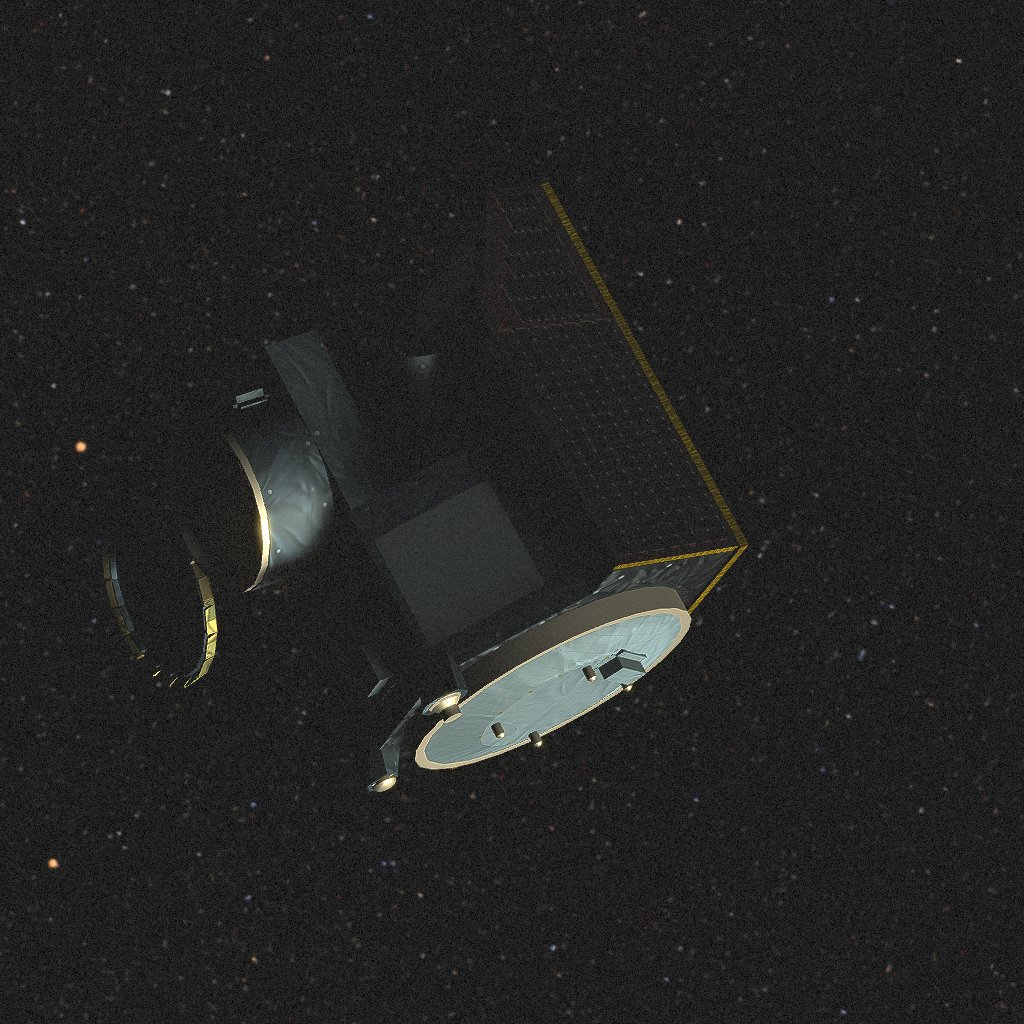cheops: (101, 182, 749, 792)
